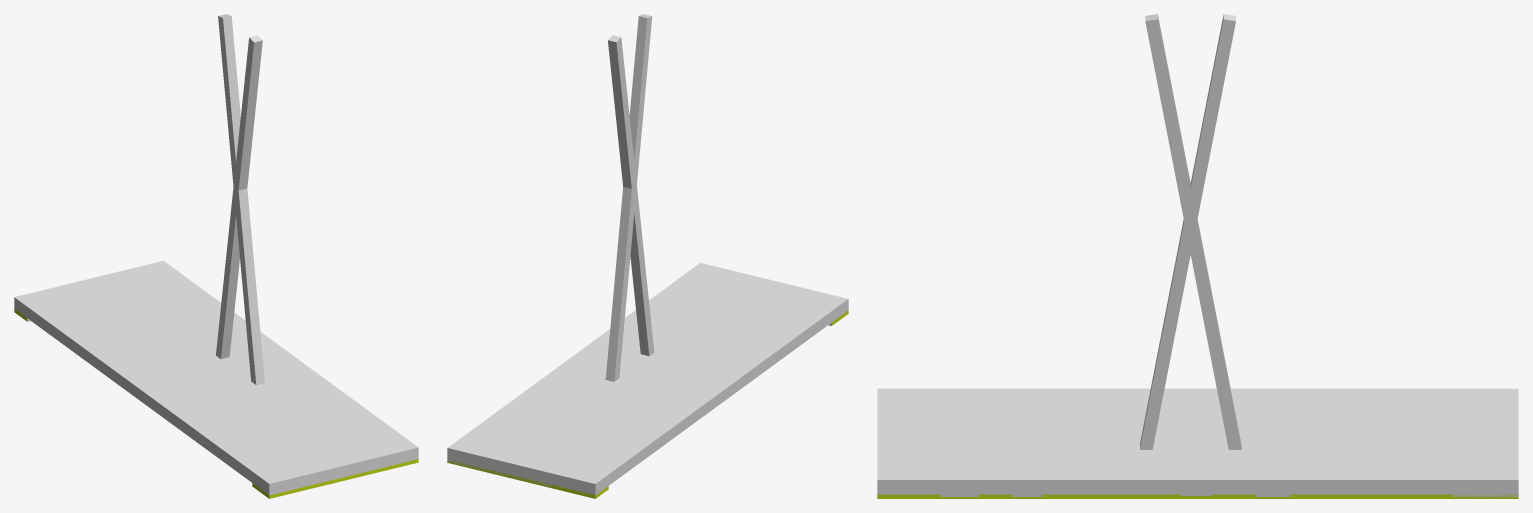
The model's file is synth.gltf.
The picture shows the model from 3 angles, left to right: view 1: azimuth 30°, elevation 25°; view 2: azimuth 150°, elevation 25°; view 3: azimuth 270°, elevation 25°; orthographic projection. The views are drawn at different scales.
Parts seen in each view (by area): view 1: Cube, Cube.011, Cube.013, Cube.012, Cube.010; view 2: Cube, Cube.011, Cube.012, Cube.013, Cube.010; view 3: Cube, Cube.011, Cube.012, Cube.013, Cube.010.
Part boxes in pixels (x1=…): Cube: x1=14, y1=260, x2=418, y2=483; Cube.011: x1=14, y1=297, x2=418, y2=495; Cube.013: x1=218, y1=14, x2=264, y2=384; Cube.012: x1=216, y1=35, x2=262, y2=359; Cube.010: x1=14, y1=309, x2=418, y2=498; Cube: x1=447, y1=263, x2=847, y2=486; Cube.011: x1=447, y1=299, x2=848, y2=495; Cube.012: x1=605, y1=14, x2=652, y2=381; Cube.013: x1=608, y1=35, x2=654, y2=356; Cube.010: x1=447, y1=310, x2=848, y2=498; Cube: x1=877, y1=388, x2=1518, y2=497; Cube.011: x1=877, y1=480, x2=1518, y2=494; Cube.012: x1=1145, y1=14, x2=1241, y2=449; Cube.013: x1=1140, y1=14, x2=1235, y2=449; Cube.010: x1=877, y1=494, x2=1518, y2=498.
Bounding box in the file's own units: 2 × 4.62 × 5.92.
